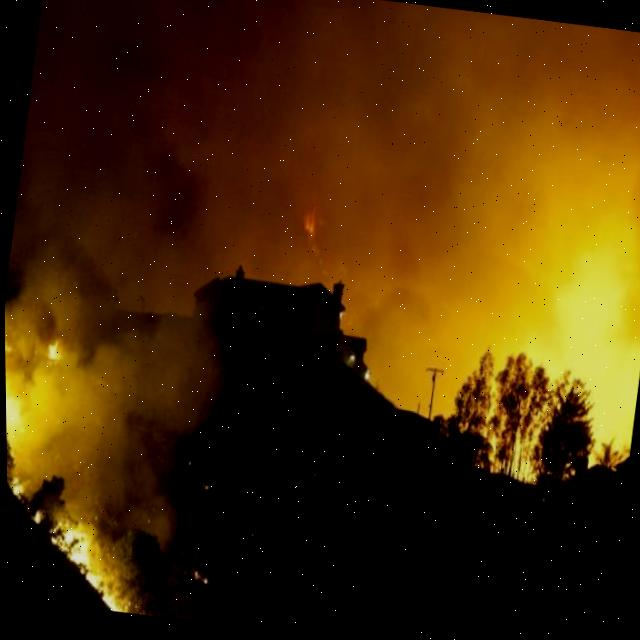fire: (536, 207, 640, 468), (42, 507, 134, 614), (4, 362, 14, 430)
smoke: (3, 0, 640, 615)
